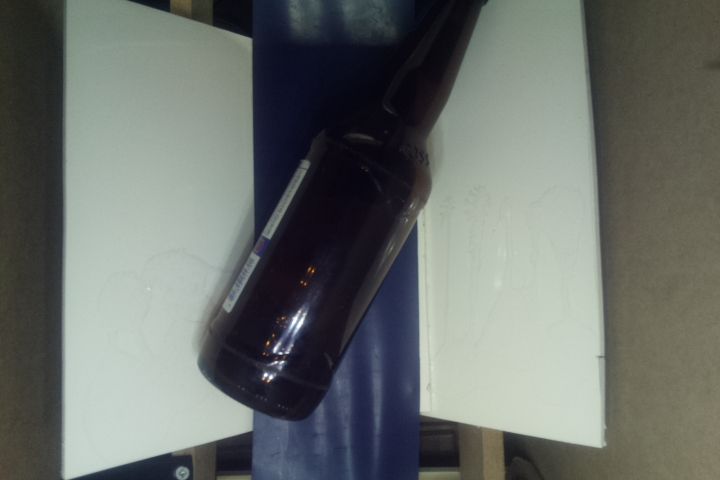makju: (197, 1, 491, 423)
